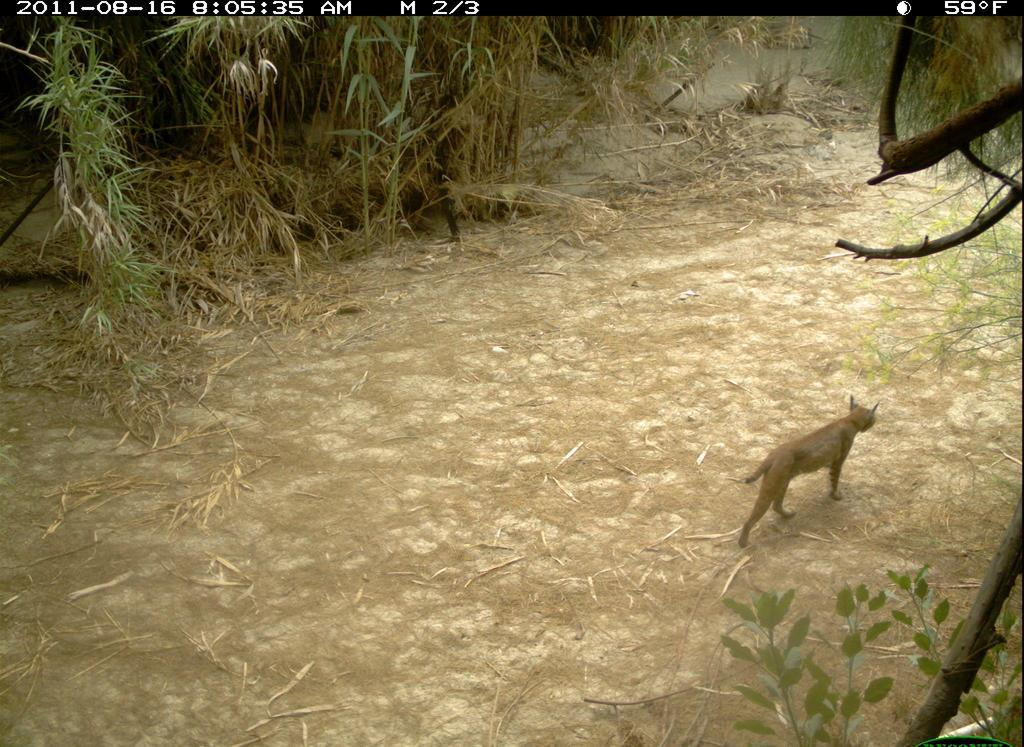bobcat: (736, 392, 884, 558)
